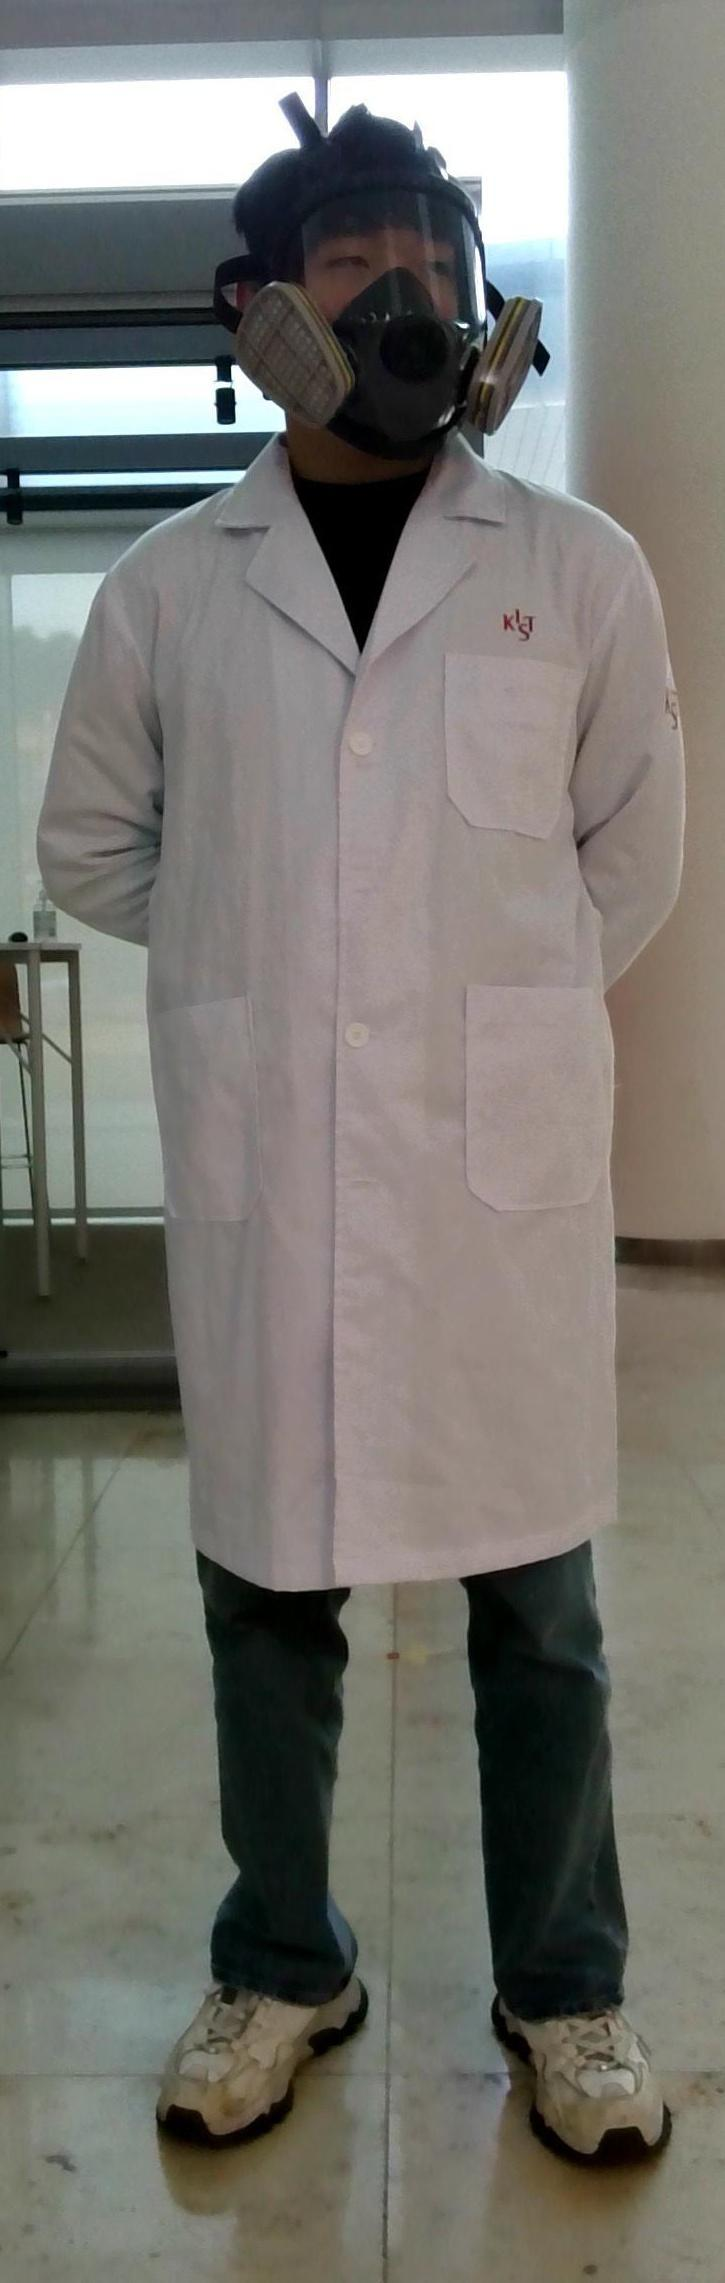lab_coat: (66, 531, 678, 1558)
